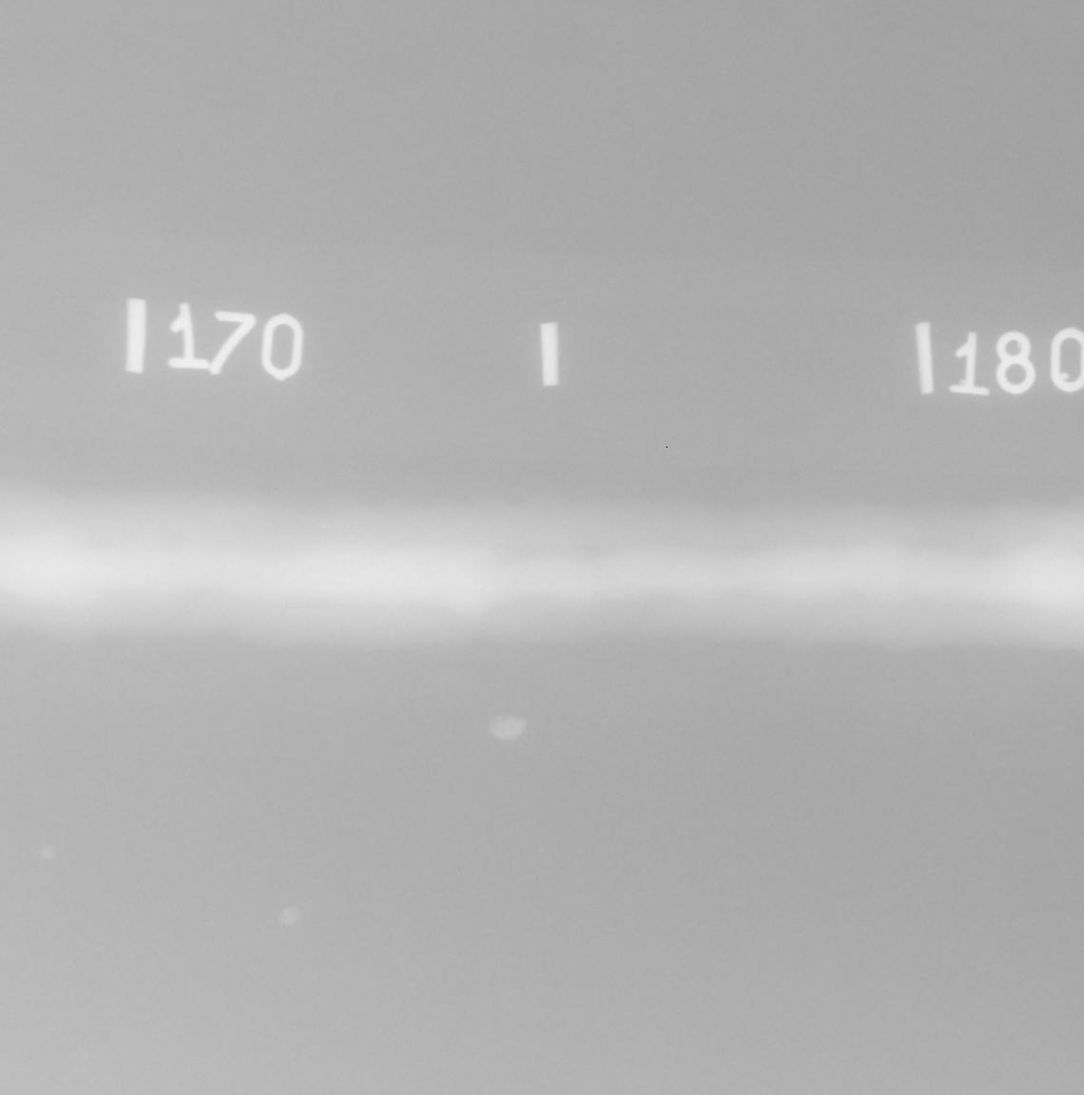Pore/Porosity: (545, 615, 555, 620)
